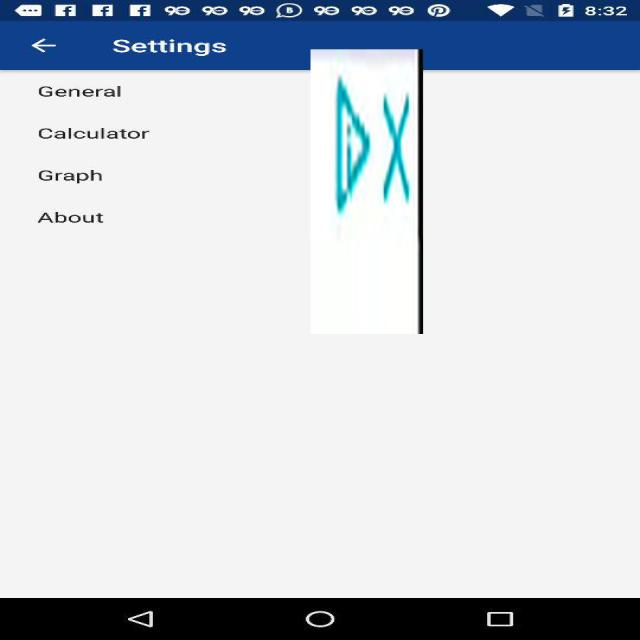sneaking: (311, 49, 423, 334)
